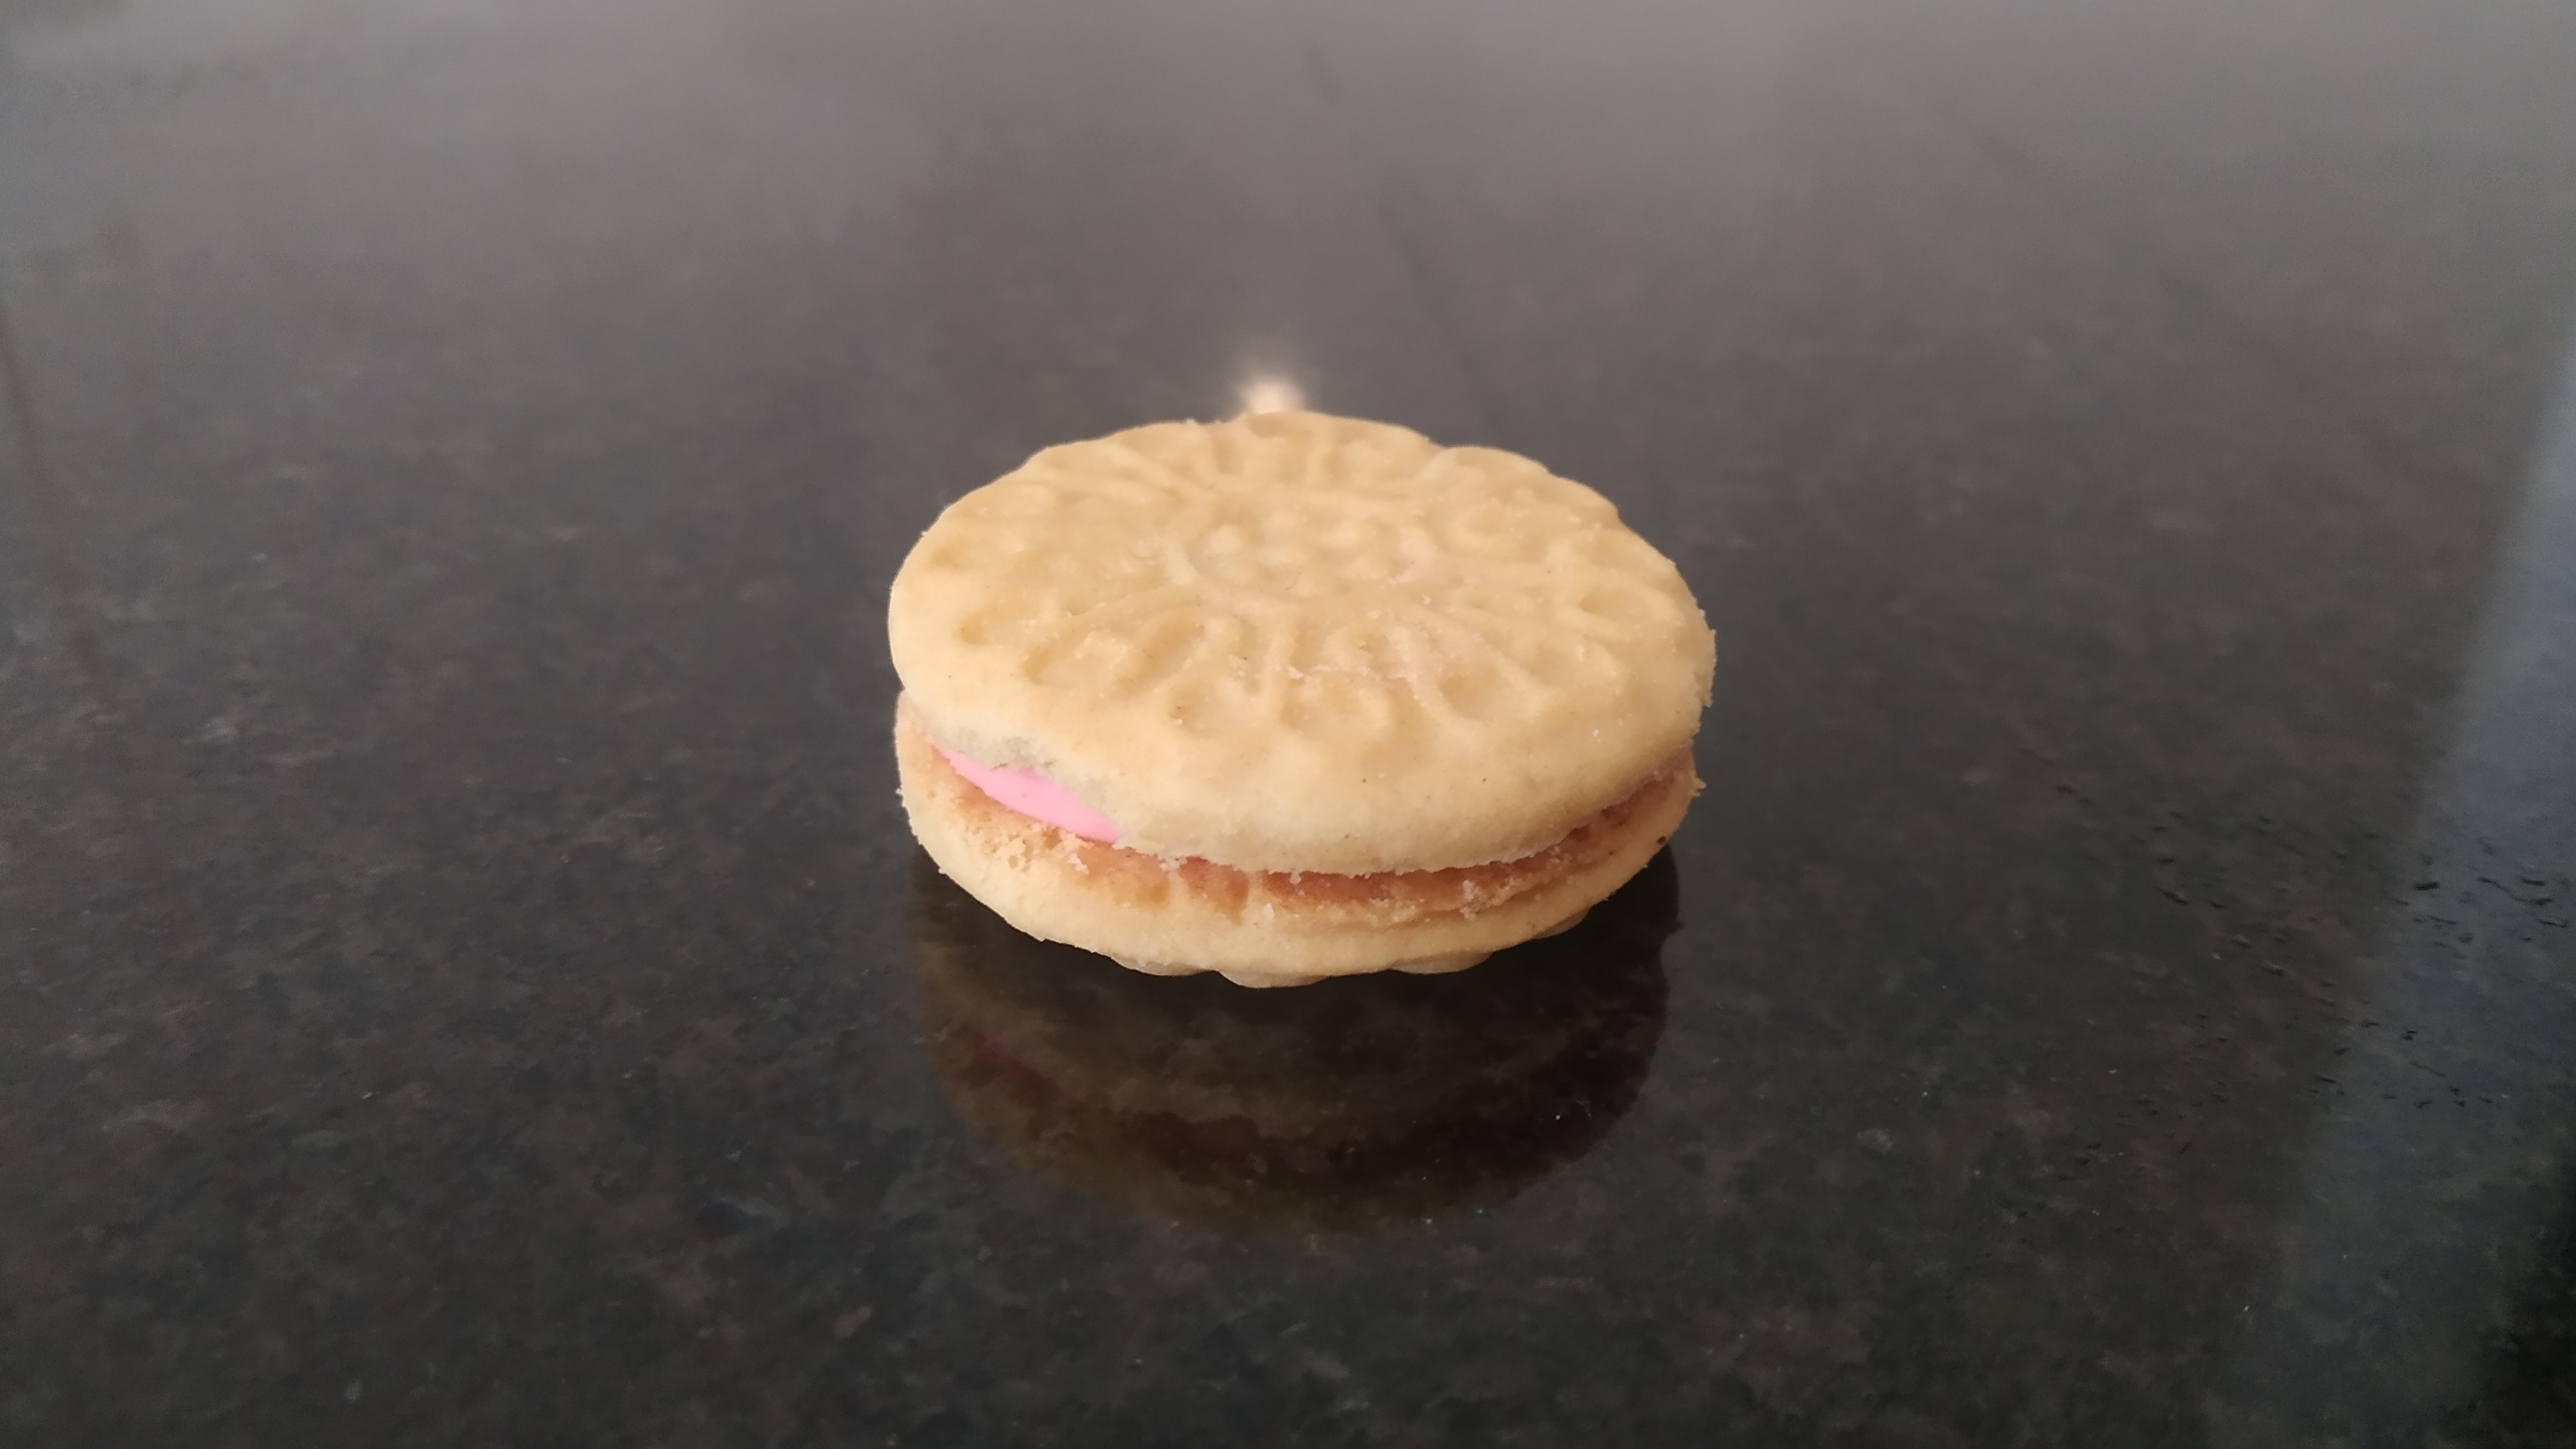lulu: (888, 412, 1714, 993)
